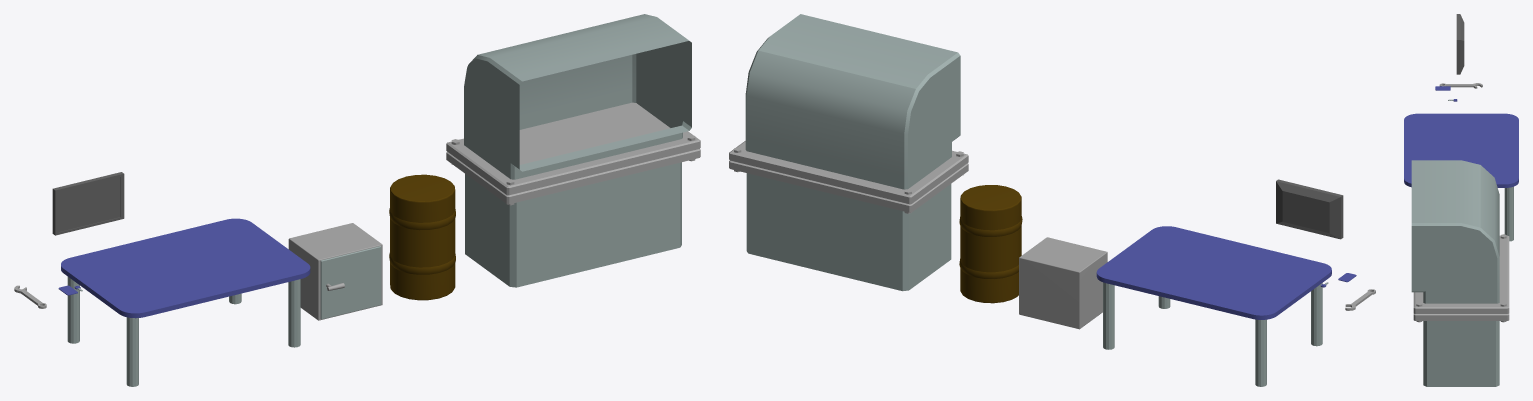
The model's file is ProjectProps_Draft.fbx.
The picture shows the model from 3 angles, left to right: view 1: azimuth 30°, elevation 25°; view 2: azimuth 150°, elevation 25°; view 3: azimuth 270°, elevation 25°; orthographic projection. The views are drawn at different scales.
Visible parts, largest first — view 1: CurvedVent, StraightVent, TableBase, BoltedJoints, pCylinder1, SafeDoor, ScreenForDoor, SafeBase, pCylinder2, pCylinder3, pCylinder5; view 2: CurvedVent, StraightVent, TableBase, SafeBase, pCylinder1, BoltedJoints, ScreenForDoor, pCylinder5, pCylinder4, pCylinder2; view 3: CurvedVent, TableBase, StraightVent, BoltedJoints, pCylinder4, ScreenForDoor.
Part boxes in pixels (<box>): CurvedVent: <box>464,14,691,179</box>; StraightVent: <box>465,162,681,287</box>; TableBase: <box>61,218,310,318</box>; BoltedJoints: <box>446,102,700,204</box>; pCylinder1: <box>390,174,455,300</box>; SafeDoor: <box>320,246,381,319</box>; ScreenForDoor: <box>52,172,124,235</box>; SafeBase: <box>288,223,382,320</box>; pCylinder2: <box>126,317,138,386</box>; pCylinder3: <box>288,279,300,347</box>; pCylinder5: <box>67,277,79,343</box>; CurvedVent: <box>745,14,960,189</box>; StraightVent: <box>746,173,951,291</box>; TableBase: <box>1096,226,1331,319</box>; SafeBase: <box>1019,237,1107,329</box>; pCylinder1: <box>960,185,1021,303</box>; BoltedJoints: <box>729,141,968,212</box>; ScreenForDoor: <box>1276,179,1343,239</box>; pCylinder5: <box>1255,319,1266,386</box>; pCylinder4: <box>1103,282,1114,349</box>; pCylinder2: <box>1311,283,1322,346</box>; CurvedVent: <box>1411,160,1499,303</box>; TableBase: <box>1404,113,1518,187</box>; StraightVent: <box>1423,321,1499,386</box>; BoltedJoints: <box>1413,235,1509,320</box>; pCylinder4: <box>1504,186,1513,241</box>; ScreenForDoor: <box>1456,14,1464,74</box>.
Bounding box in the file's own units: 7.48 × 2.36 × 1.5.
